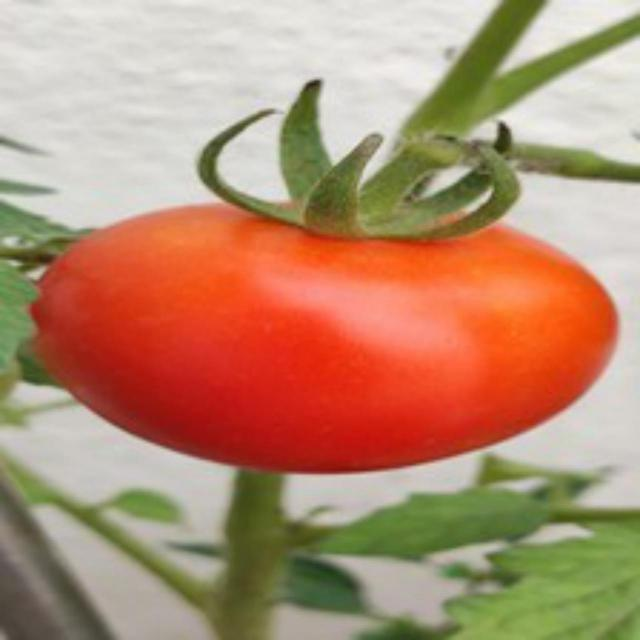tomato: (19, 193, 640, 491)
